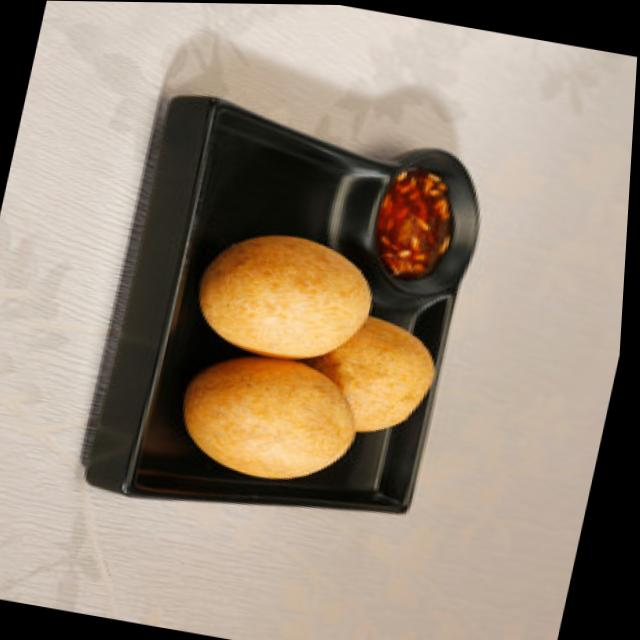BONDA: (185, 233, 435, 478)
PICKLE: (375, 169, 455, 275)
